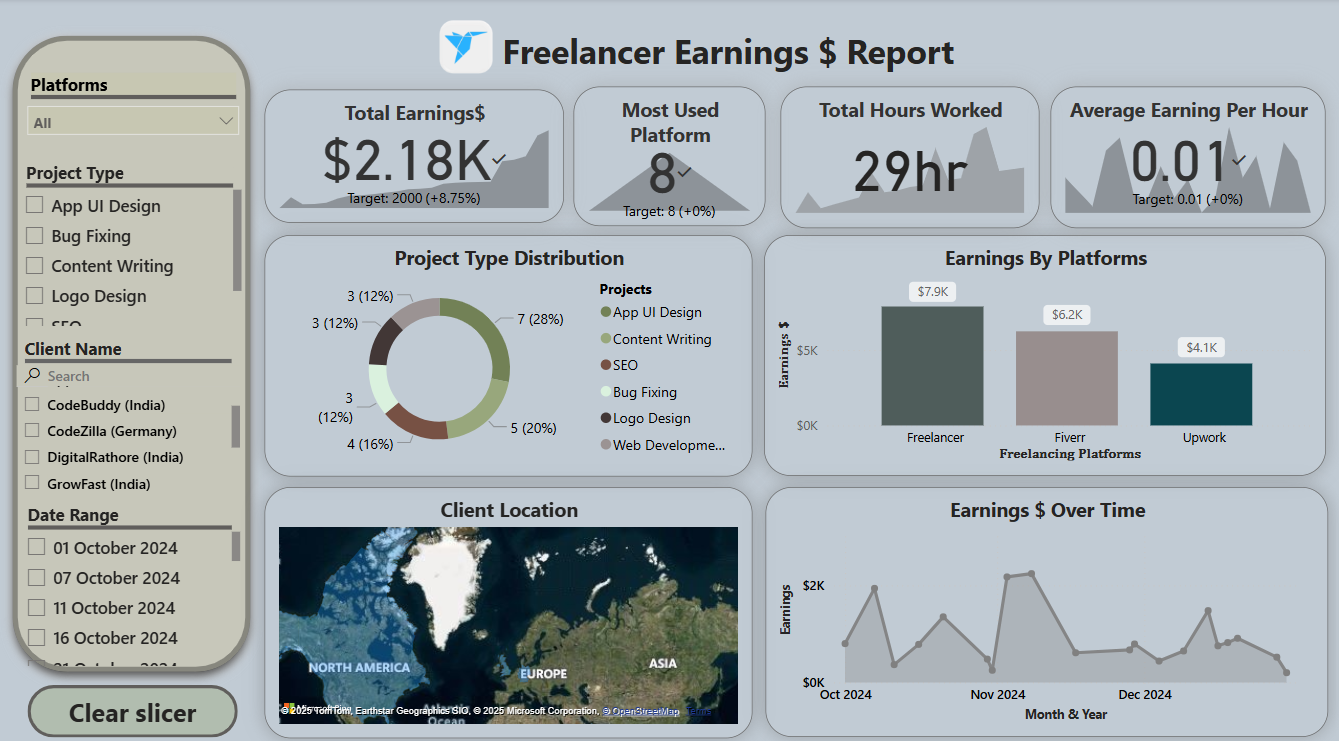

What the dashboard file says about the page in this screenshot:
{"tool":"powerbi","page":{"name":"Page 1","canvas":[1280,720],"ordinal":0},"visuals":[{"type":"kpi","title":"Total Earnings$","fields":{"Indicator":["freelancer_data.total earnings"],"TrendLine":["freelancer_data.Amount Earned ($)"],"Goal":["freelancer_data.target"]},"box":[253,86.9,285.9,127.5],"z":0},{"type":"kpi","title":"Total Hours Worked","fields":{"Indicator":["freelancer_data.Total Hours Worked"],"TrendLine":["freelancer_data.Hours Spent"]},"box":[745.6,85,247.2,135.2],"z":1000},{"type":"kpi","title":"Most Used Platform","fields":{"Indicator":["CountNonNull(freelancer_data.Platform)"],"TrendLine":["freelancer_data.Platform"],"Goal":["CountNonNull(freelancer_data.Platform)"]},"box":[548.6,85,183.5,133.3],"z":3000},{"type":"lineStackedColumnComboChart","title":"Earnings By Platforms","fields":{"Category":["freelancer_data.Platform"],"Y":["Sum(freelancer_data.Amount Earned ($))"]},"box":[730.2,226,537,229.9],"z":4000},{"type":"lineChart","title":"Earnings $ Over Time","fields":{"Y":["freelancer_data.total earnings"],"Category":["freelancer_data.Date.Variation.Date Hierarchy.Year","freelancer_data.Date.Variation.Date Hierarchy.Month","freelancer_data.Date.Variation.Date Hierarchy.Day"]},"box":[731.7,467.6,537.6,238.6],"z":5000},{"type":"donutChart","title":"Project Type Distribution","fields":{"Category":["freelancer_data.Project Type"],"Y":["CountNonNull(freelancer_data.Project Type)"]},"box":[252.9,225.9,466,230.6],"z":6000},{"type":"shape","box":[0,23.2,253,633.6],"z":7000},{"type":"slicer","fields":{"Values":["freelancer_data.Client Name"]},"box":[11.5,318,223.5,159],"z":8000},{"type":"slicer","fields":{"Values":["freelancer_data.Date"]},"box":[14.3,477.2,221.1,165.4],"z":9000},{"type":"slicer","fields":{"Values":["freelancer_data.Project Type"]},"box":[12.9,150.4,223.5,167.6],"z":10000},{"type":"slicer","fields":{"Values":["freelancer_data.Platform"]},"box":[17.4,65.7,222.1,90.8],"z":11000},{"type":"actionButton","box":[27,656.8,200.9,50.2],"z":13000},{"type":"image","box":[367,0,158.4,92.7],"z":14000},{"type":"textbox","box":[475.2,23.2,461.7,69.5],"z":15000},{"type":"kpi","title":"Average Earning Per Hour","fields":{"Indicator":["freelancer_data.avg earning hour"],"TrendLine":["freelancer_data.Hours Spent"],"Goal":["freelancer_data.avg earning hour"]},"box":[1004.4,85,262.7,135.2],"z":16000},{"type":"filledMap","title":"Client Location","fields":{"Category":["freelancer_data.Client Type"]},"box":[252.9,467.6,466,240.2],"z":16001}]}

Visuals, with their boxes in screenshot pixels (x1, y1, x2, y2), scaled from the page's 1280x720 canvas onto the 1339x741 screenshot:
"Total Earnings$" kpi: bbox=[265, 89, 564, 221]
"Total Hours Worked" kpi: bbox=[780, 87, 1039, 227]
"Most Used Platform" kpi: bbox=[574, 87, 766, 225]
"Earnings By Platforms" lineStackedColumnComboChart: bbox=[764, 233, 1326, 469]
"Earnings $ Over Time" lineChart: bbox=[765, 481, 1328, 727]
"Project Type Distribution" donutChart: bbox=[265, 232, 752, 470]
shape: bbox=[0, 24, 265, 676]
slicer - freelancer_data.Client Name: bbox=[12, 327, 246, 491]
slicer - freelancer_data.Date: bbox=[15, 491, 246, 661]
slicer - freelancer_data.Project Type: bbox=[13, 155, 247, 327]
slicer - freelancer_data.Platform: bbox=[18, 68, 251, 161]
actionButton: bbox=[28, 676, 238, 728]
image: bbox=[384, 0, 550, 95]
textbox: bbox=[497, 24, 980, 95]
"Average Earning Per Hour" kpi: bbox=[1051, 87, 1326, 227]
"Client Location" filledMap: bbox=[265, 481, 752, 728]
